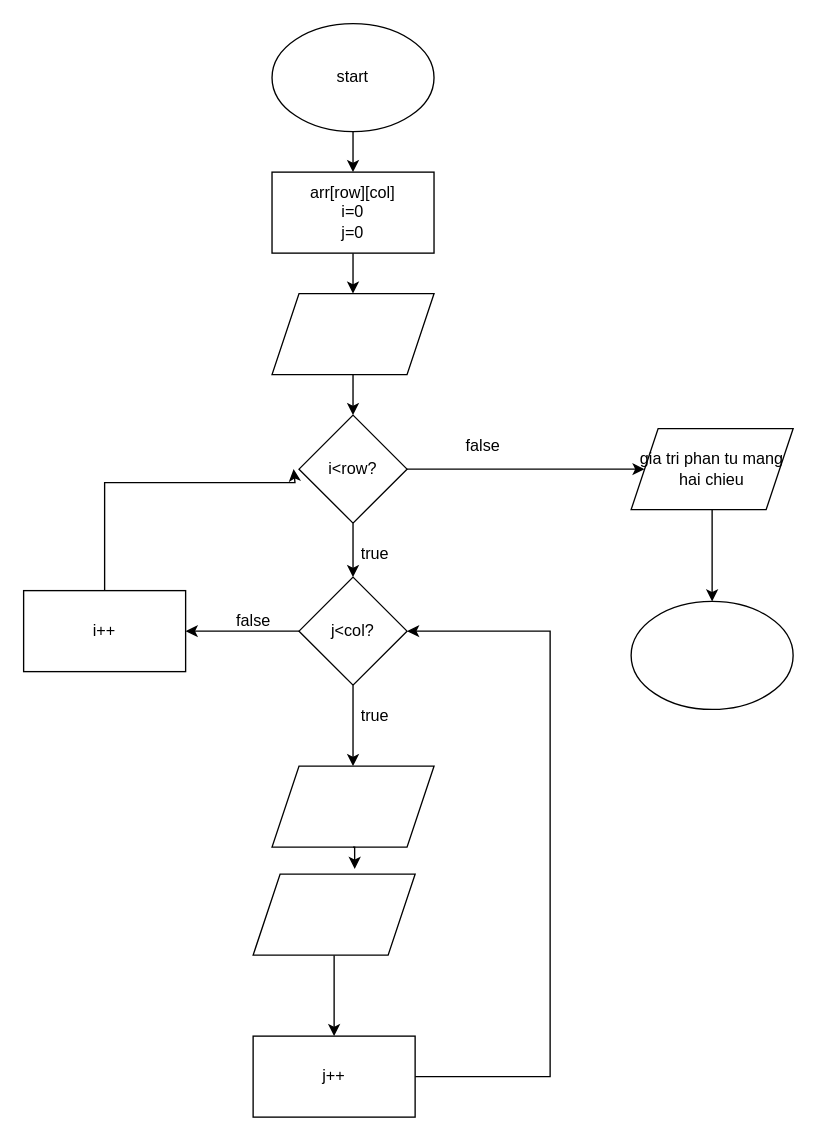
This 817x1141 diagram has some shape labels left out. Here are the shapes that lost their labels. From the top down, the centre of each, then its label:
At (x=352, y=333): "row, col".
At (x=711, y=654): "end".
At (x=352, y=806): "arr[i][j]=".
At (x=333, y=914): "gia tri gan".
